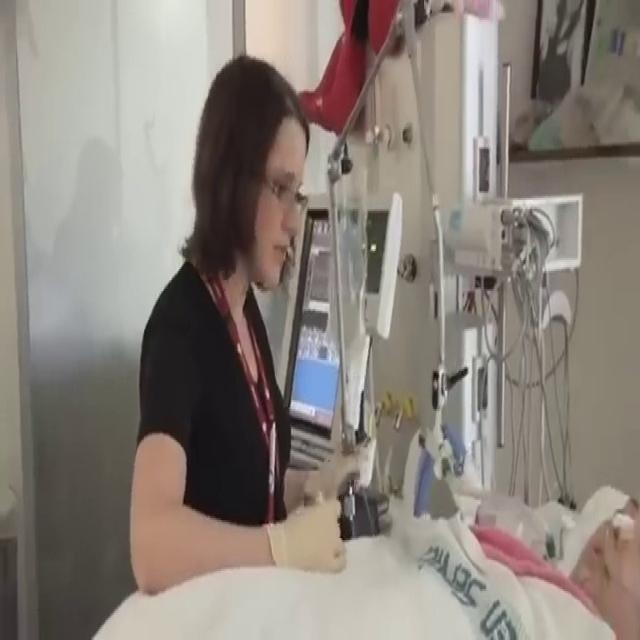monitor: (282, 206, 343, 444)
nurse: (128, 51, 349, 594)
patient: (89, 482, 638, 638)
